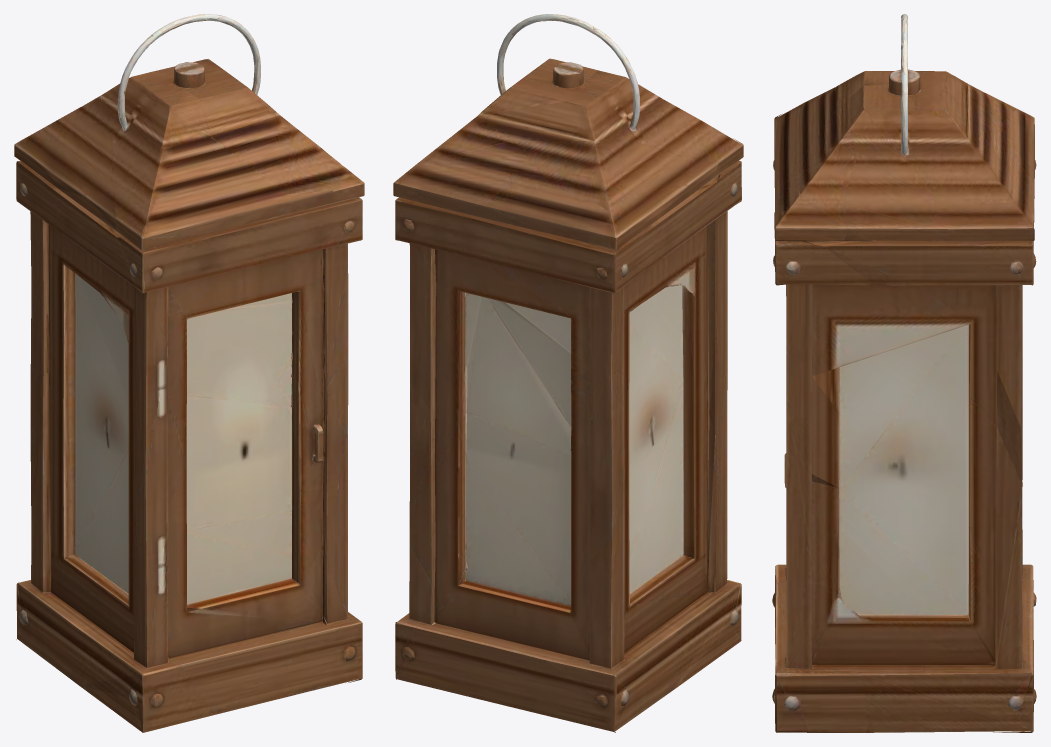
The model's file is lantern.glb.
3 views of the same model, side by side, from view 1: azimuth 30°, elevation 25°; view 2: azimuth 150°, elevation 25°; view 3: azimuth 270°, elevation 25° (orthographic).
Size of the model in its own units: 0.7016 by 1.9 by 0.6937.
Materials: 1 (1 with a texture image).
